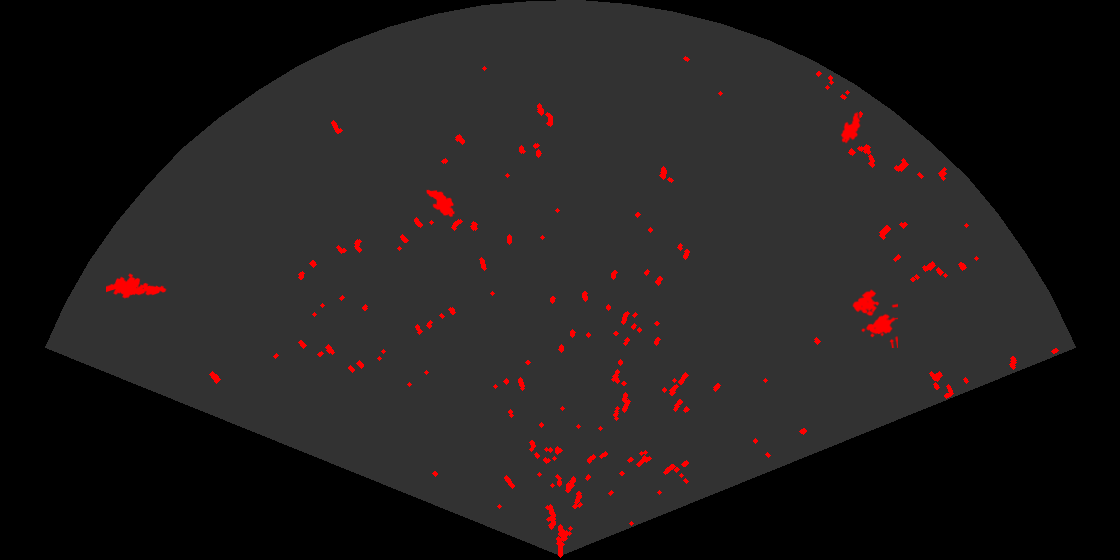AUV: (424, 188, 456, 219), (839, 111, 862, 145)
cage: (851, 288, 898, 348)
frogman: (106, 272, 169, 300)
